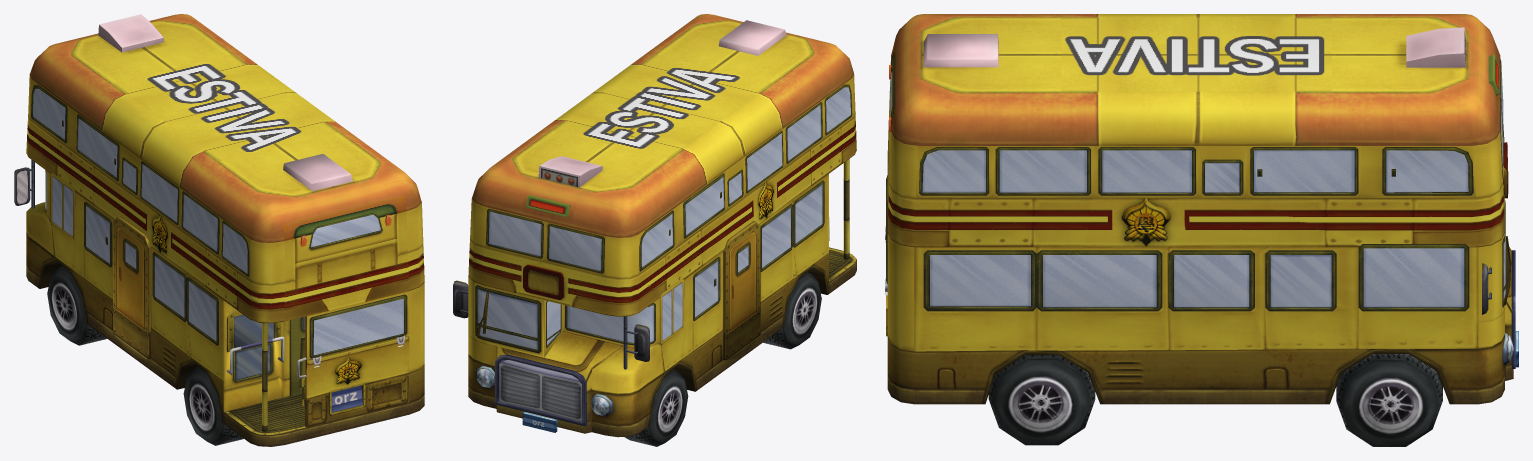
Rendered from a_SWAbusy01.glb.
3 renders of one model, left to right at view 1: azimuth 30°, elevation 25°; view 2: azimuth 150°, elevation 25°; view 3: azimuth 270°, elevation 25°, orthographic. The views are drawn at different scales.
Visible parts, largest first — view 1: a_SWAbusy01; view 2: a_SWAbusy01; view 3: a_SWAbusy01.
Boxes of the visible parts, bbox=[...] form: a_SWAbusy01: bbox=[14, 14, 424, 446]; a_SWAbusy01: bbox=[453, 14, 856, 446]; a_SWAbusy01: bbox=[885, 14, 1518, 446].
Size of the model in its own units: 2.95 by 3.96 by 6.36.
4 materials, 4 textured.
